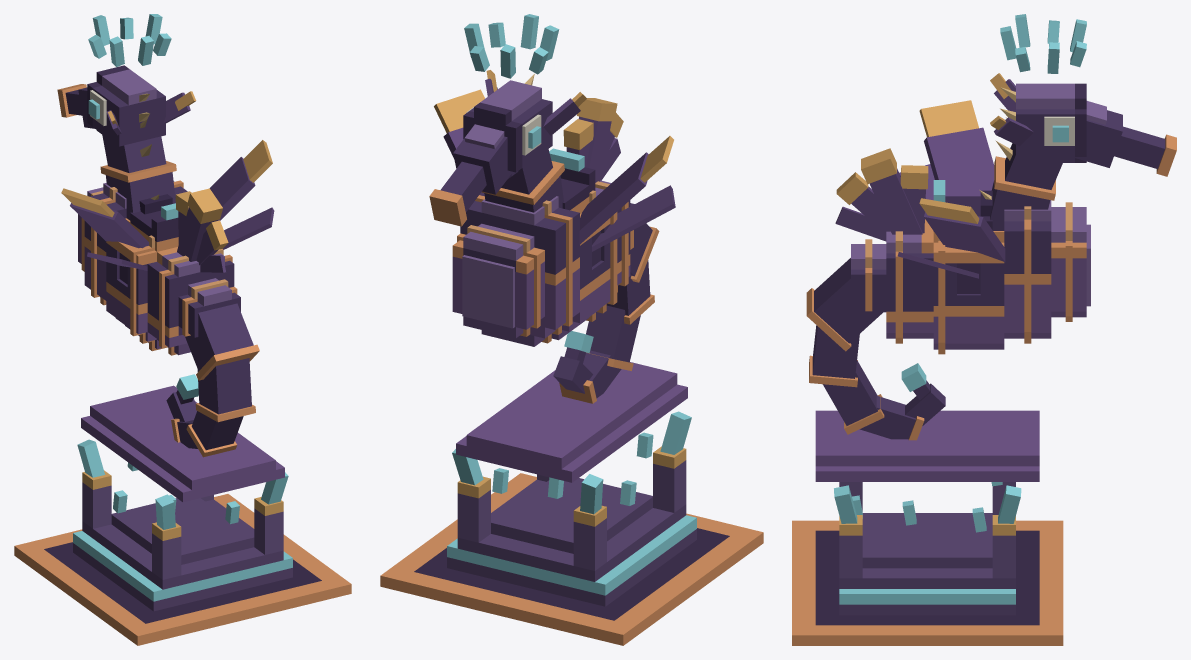
File: SeahorseTrainer11.glb
The picture shows the model from 3 angles, left to right: view 1: azimuth 30°, elevation 25°; view 2: azimuth 150°, elevation 25°; view 3: azimuth 270°, elevation 25°; orthographic projection. The views are drawn at different scales.
Parts seen in each view (by area): view 1: Stand, Stand_Glow, Body, Plate, Head, Body_Glow, Wings, T1, T2, Crown, Fin, Fin_Glow (+7 smaller); view 2: Stand, Stand_Glow, Body, Plate, Head, Body_Glow, Wings, Crown, T3, Wings_Glow, Fin_Glow, Fin (+6 smaller); view 3: Body, Stand, Stand_Glow, Plate, Head, Body_Glow, Wings, Fin, T1, Wings_Glow, Crown, Fin_Glow (+7 smaller).
Boxes of the visible parts, box(x1,y1,x2,y2) form: Stand: box(44, 482, 321, 623); Stand_Glow: box(14, 439, 351, 645); Body: box(78, 119, 240, 355); Plate: box(81, 385, 284, 502); Head: box(65, 65, 190, 146); Body_Glow: box(81, 161, 237, 355); Wings: box(70, 157, 274, 270); T1: box(185, 303, 253, 370); T2: box(197, 358, 251, 414); Crown: box(88, 14, 171, 66); Fin: box(177, 207, 225, 272); Fin_Glow: box(175, 188, 228, 250); Stand: box(414, 460, 729, 620); Stand_Glow: box(380, 411, 763, 645); Body: box(452, 149, 637, 346); Plate: box(456, 362, 687, 482); Head: box(440, 74, 580, 211); Body_Glow: box(452, 148, 633, 343); Wings: box(443, 127, 675, 251); Crown: box(464, 14, 559, 78); T3: box(586, 305, 640, 362); Wings_Glow: box(434, 89, 673, 182); Fin_Glow: box(563, 98, 623, 150); Fin: box(566, 116, 620, 182); Body: box(851, 117, 1090, 349); Stand: box(815, 482, 1039, 625); Stand_Glow: box(792, 485, 1063, 645); Plate: box(815, 410, 1039, 481); Head: box(994, 79, 1165, 169); Body_Glow: box(865, 156, 1086, 354); Wings: box(897, 127, 1005, 278); Fin: box(835, 168, 925, 241); T1: box(814, 258, 886, 343); Wings_Glow: box(919, 100, 979, 223); Crown: box(1000, 14, 1086, 73); Fin_Glow: box(836, 148, 928, 204).
Size of the model in its own units: 9.2 by 21 by 13.06.
